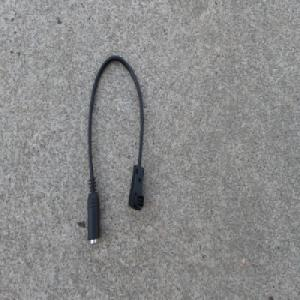Wire: (84, 54, 144, 246)
